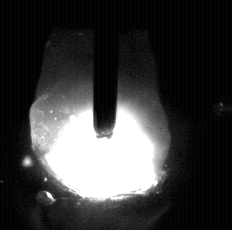arame: (94, 0, 118, 139)
poca: (30, 0, 171, 230)
